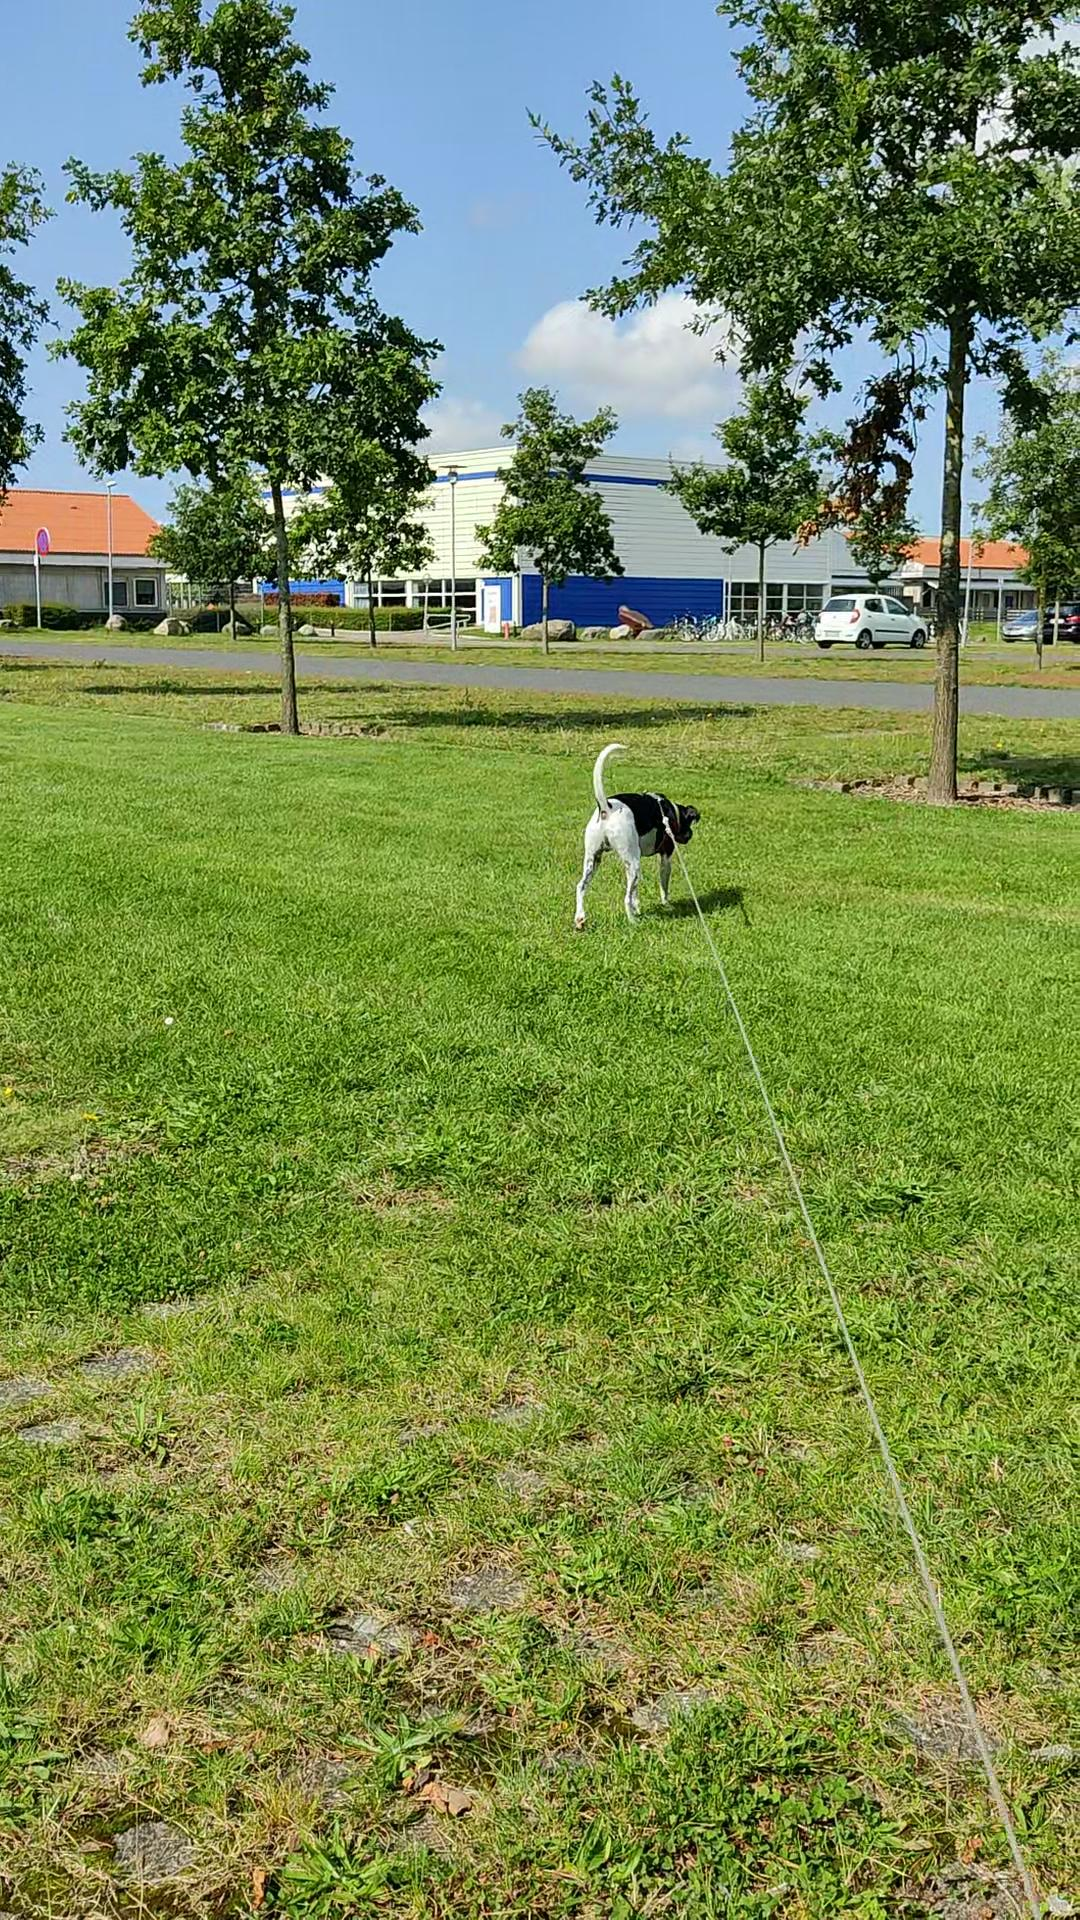Dog: (564, 737, 705, 934)
